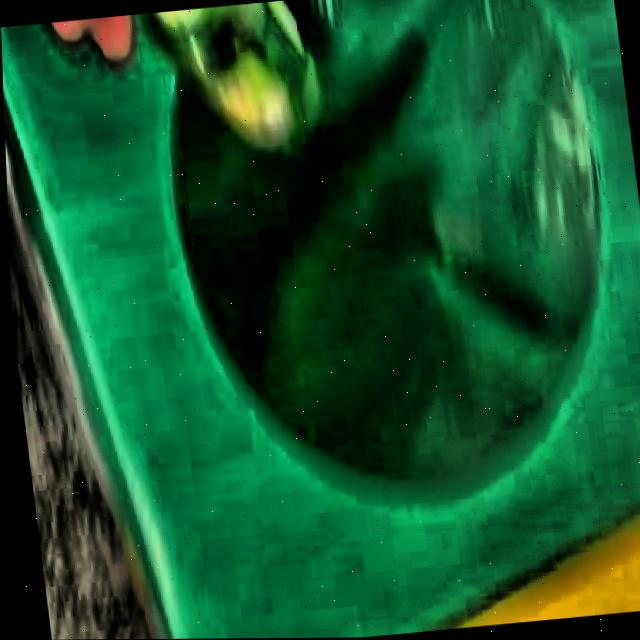glass: (141, 1, 316, 148)
